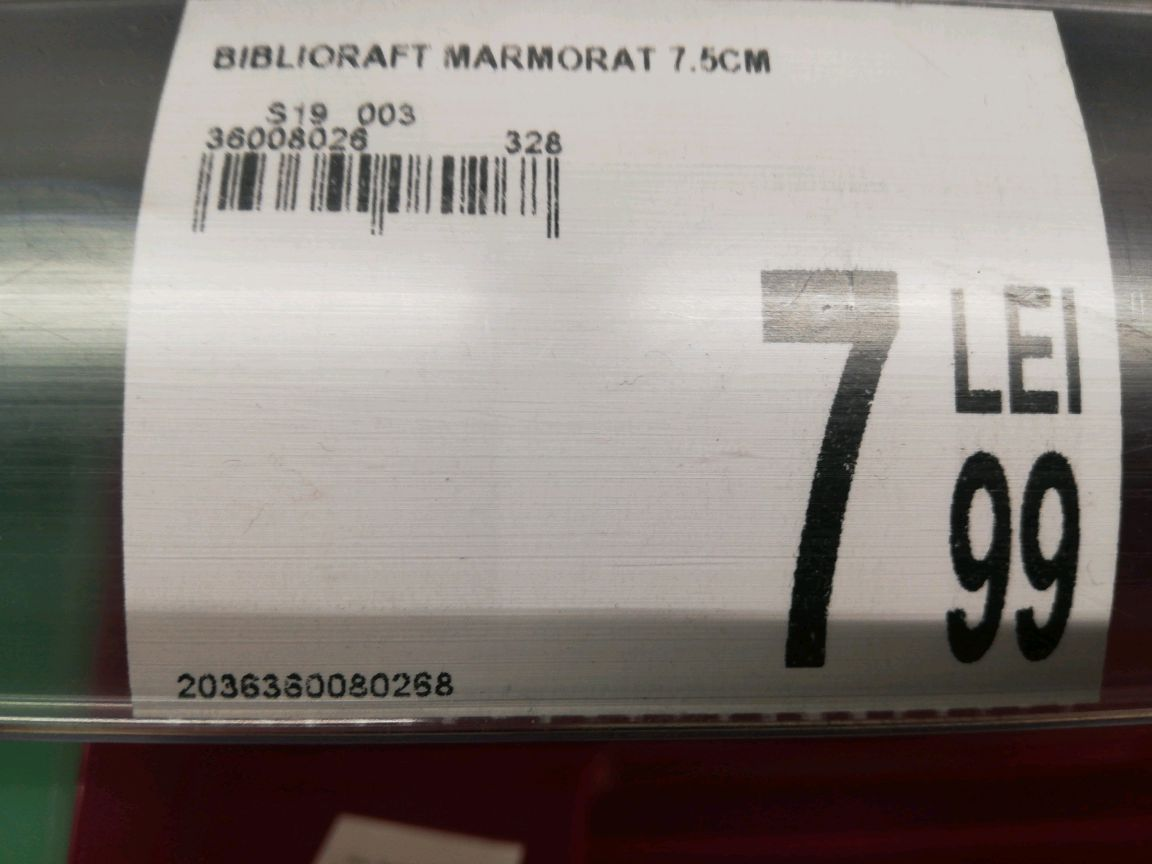price_bani: (927, 445, 1095, 677)
price_lei: (723, 262, 909, 687)
price_tag: (126, 1, 1133, 719)
product_id: (164, 653, 478, 717)
product_name: (203, 31, 789, 82)
